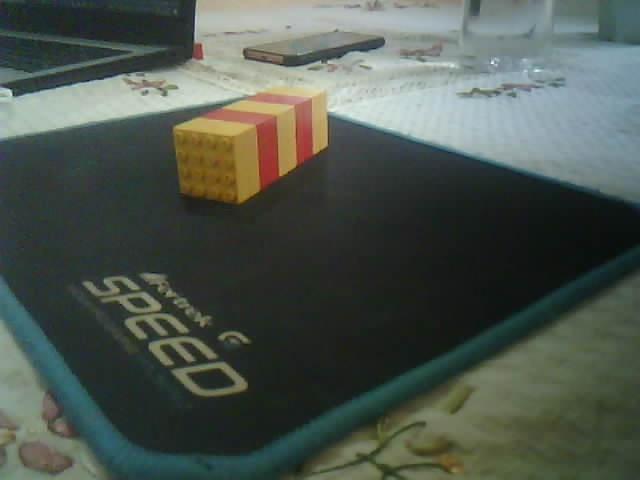lego: (171, 85, 329, 206), (192, 43, 204, 60)
